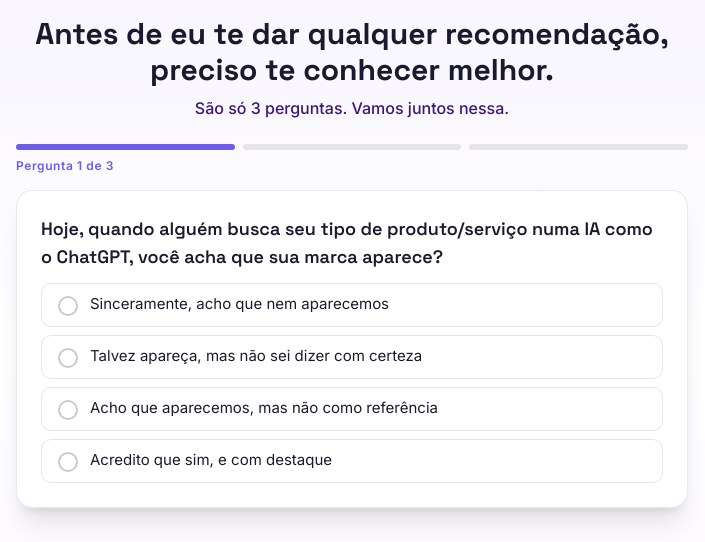
Test case: Fluxo 3 — persistência das 3 perguntas › salva parcialmente a cada resposta, sempre com onConflict=brand_id
The image size is (705, 542).
Later steps or results of the test are not shown.
Expected: the progress indicator is shown, [16,144,688,150]
Click the button "Sinceramente, acho que nem aparecemos" at (352, 305), box [41,283,663,327]
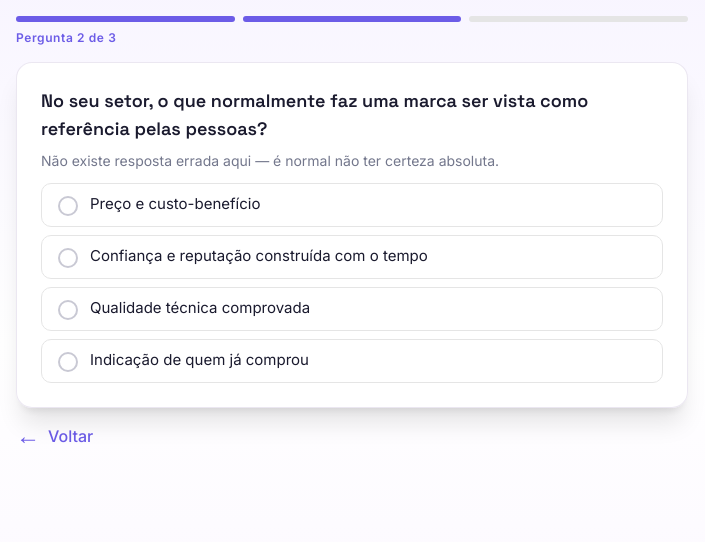
Expected: the text "Preço e custo-benefício" is shown, [90,194,260,214]
